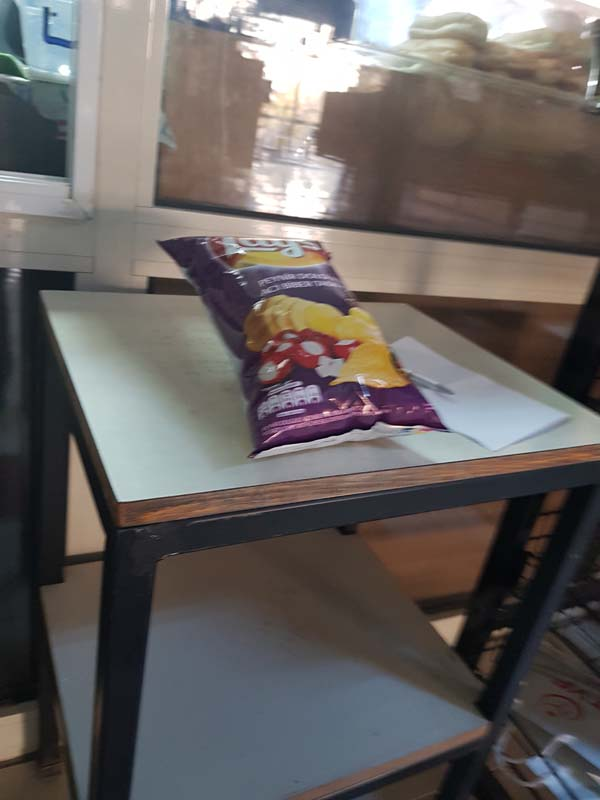layspeynirsoslu: (155, 233, 461, 459)
